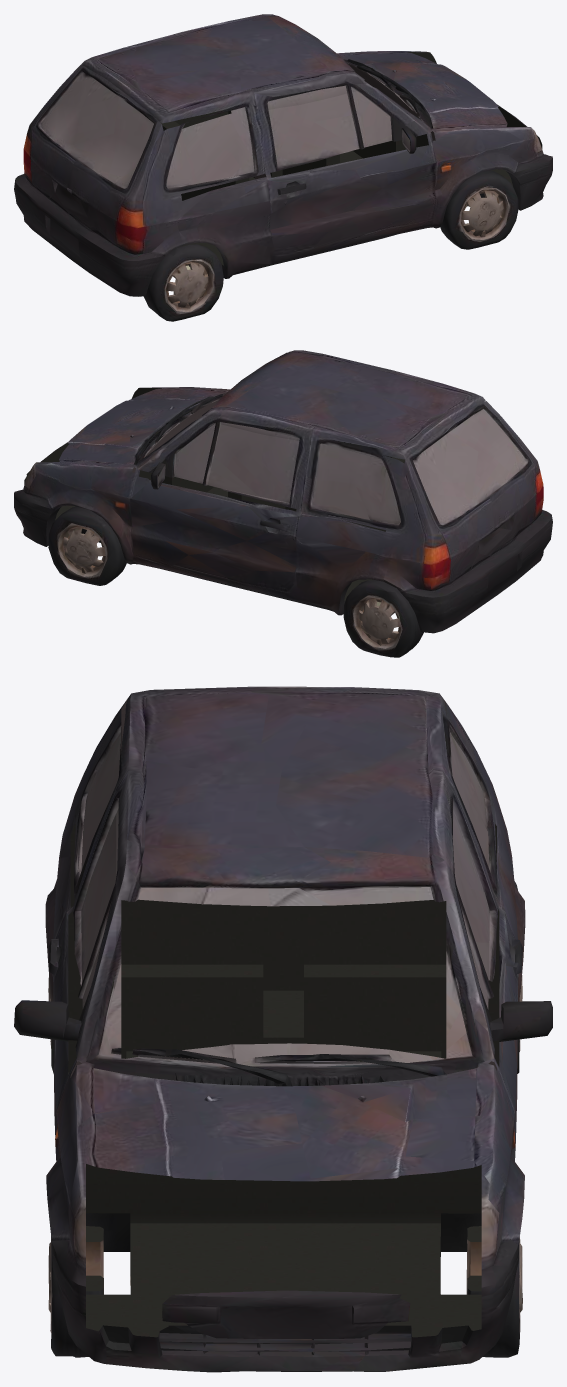
Rendered from car_hatchback.glb.
3 views of the same model, one above another, from view 1: azimuth 30°, elevation 25°; view 2: azimuth 150°, elevation 25°; view 3: azimuth 270°, elevation 25° (orthographic). The views are drawn at different scales.
Visible parts, largest first — view 1: body, door_front_1, tailgate, hood; view 2: body, door_back_1, tailgate, hood; view 3: body, hood, door_back_1, door_front_1, tailgate.
Part boxes in pixels (x1=…): body: x1=14, y1=14, x2=552, y2=321; door_front_1: x1=255, y1=83, x2=436, y2=265; tailgate: x1=14, y1=64, x2=182, y2=264; hood: x1=337, y1=51, x2=507, y2=148; body: x1=14, y1=350, x2=552, y2=657; door_back_1: x1=130, y1=416, x2=312, y2=601; tailgate: x1=384, y1=401, x2=552, y2=600; hood: x1=59, y1=387, x2=230, y2=485; body: x1=45, y1=686, x2=525, y2=1372; hood: x1=65, y1=1043, x2=505, y2=1181; door_back_1: x1=451, y1=783, x2=552, y2=1161; door_front_1: x1=14, y1=790, x2=116, y2=1161; tailgate: x1=46, y1=698, x2=518, y2=899.
Size of the model in its own units: 4 by 1.67 by 2.12.
Materials: 3 (3 with a texture image).
